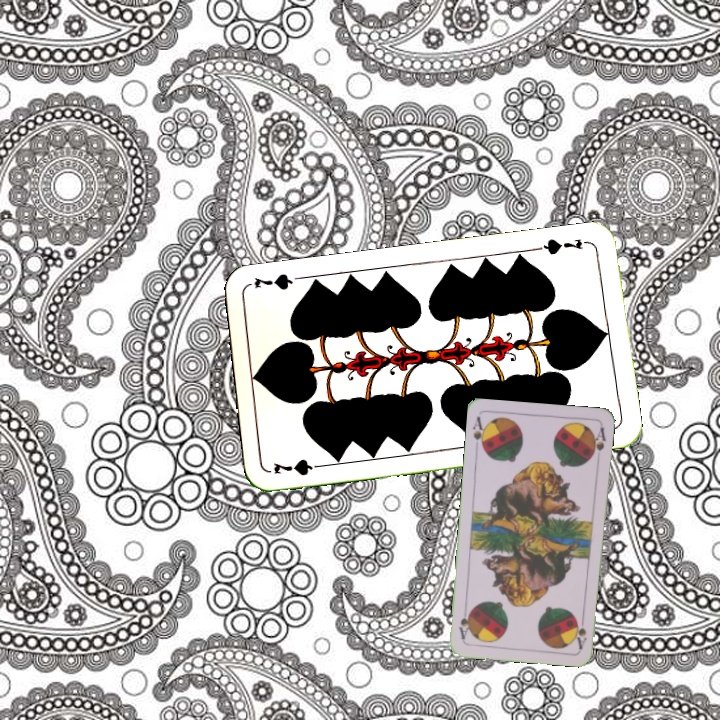G7: (269, 455, 328, 479), (534, 234, 593, 258)
SA: (469, 413, 489, 454), (573, 610, 589, 651)
